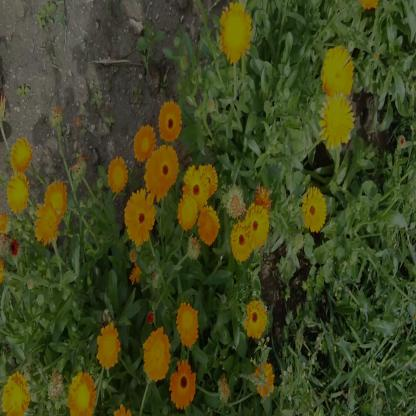marigold: (322, 90, 354, 145), (220, 10, 252, 64), (323, 42, 354, 95), (128, 191, 156, 242), (150, 147, 177, 196), (143, 329, 169, 378), (170, 360, 196, 407), (2, 368, 29, 412), (96, 322, 120, 368), (36, 204, 62, 246), (244, 205, 268, 250), (70, 373, 96, 414), (302, 187, 326, 231), (184, 167, 209, 207), (176, 304, 198, 345), (244, 299, 267, 337), (197, 205, 218, 246), (158, 101, 180, 140), (232, 223, 253, 263), (7, 176, 28, 214), (11, 136, 33, 171), (134, 126, 155, 161), (253, 360, 275, 392), (179, 196, 198, 232), (108, 156, 127, 192), (44, 185, 67, 213)
